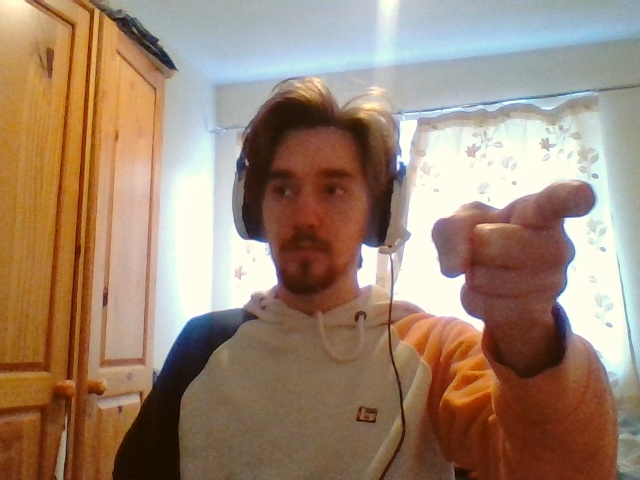you: (432, 180, 597, 316)
